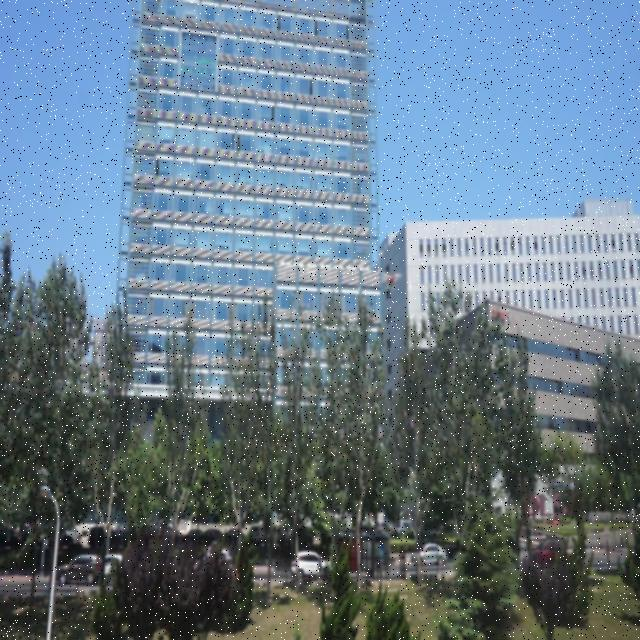UAV: (381, 272, 402, 290)
